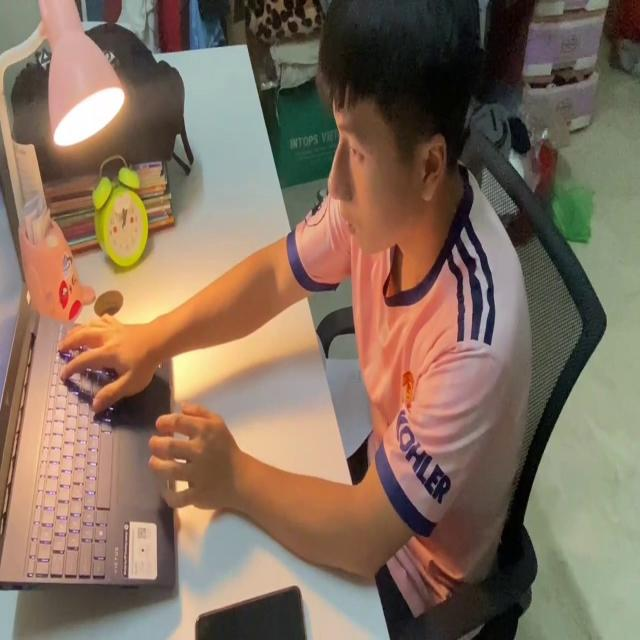book: (316, 332, 371, 464)
laptop: (0, 179, 179, 598)
phone: (192, 574, 309, 640)
student: (53, 0, 529, 624)
